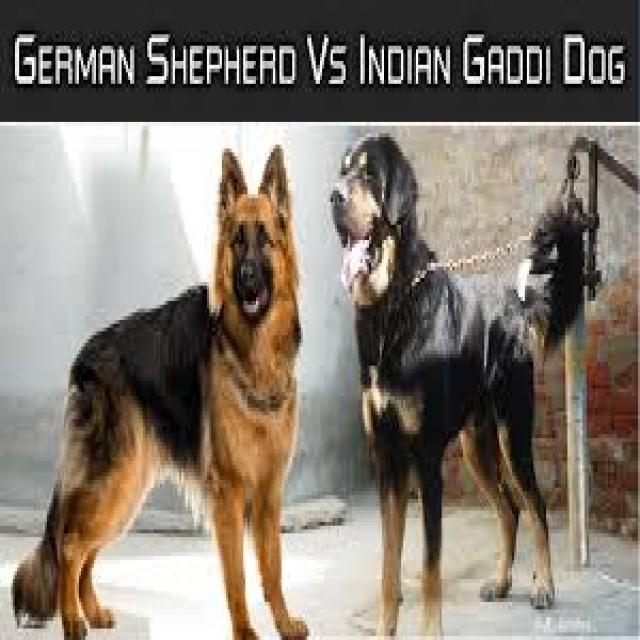Dog: (6, 134, 306, 640), (326, 131, 584, 640)
